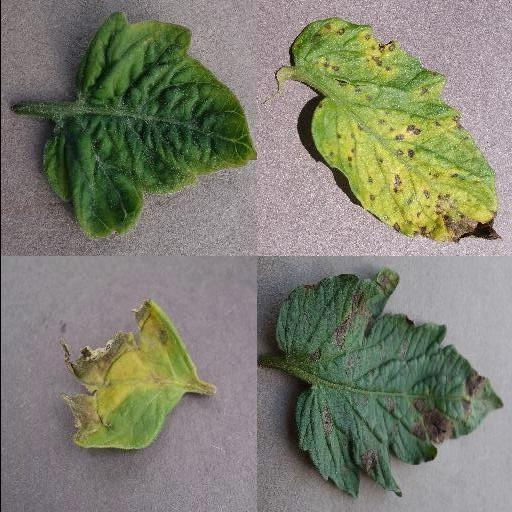Early Blight: (278, 267, 504, 496)
Late Blight: (57, 299, 201, 451)
Septoria: (289, 18, 501, 244)
Yellow Leaf Curl Virus: (39, 8, 256, 238)
